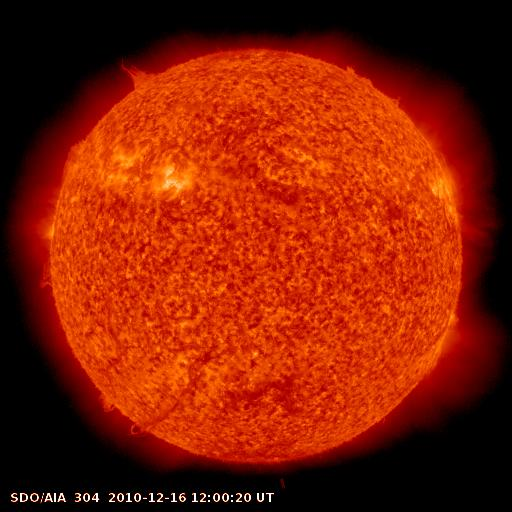prominence: (347, 60, 404, 110), (115, 49, 164, 95), (27, 253, 65, 296), (86, 379, 125, 419), (64, 128, 91, 182), (127, 414, 161, 449)
